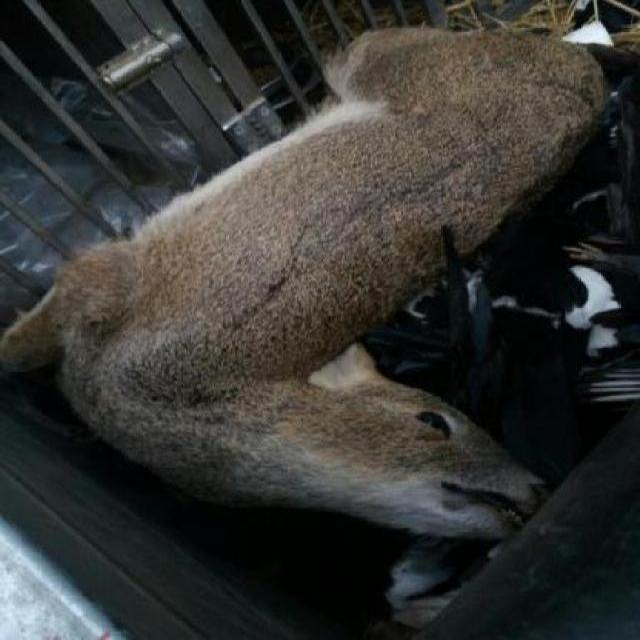deer: (0, 20, 625, 553)
